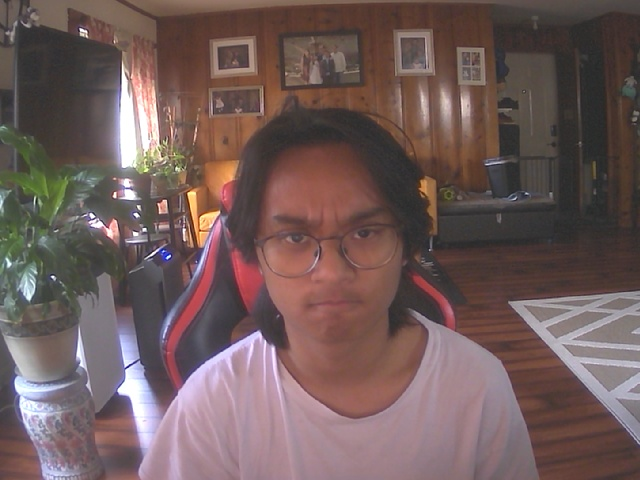anger: (252, 122, 421, 346)
